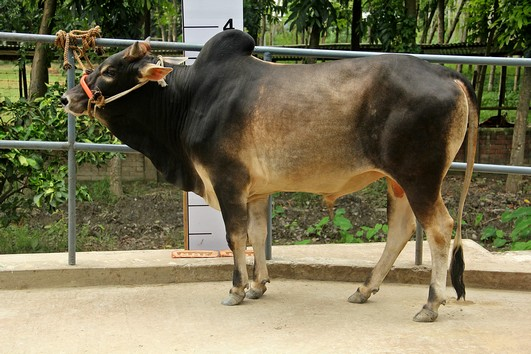cow: (56, 28, 479, 322)
